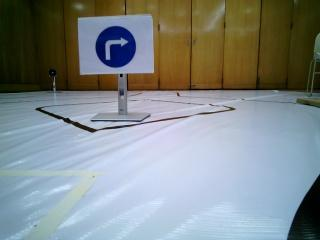right: (80, 18, 151, 73)
